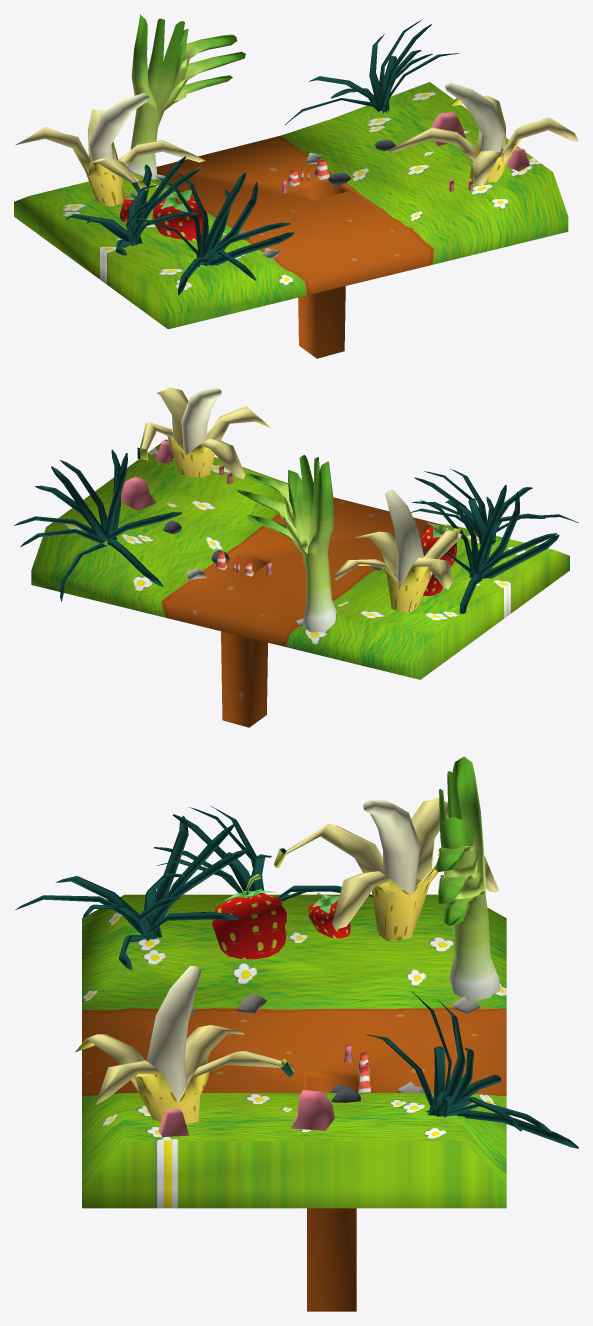
File: D_block_17.FBX
3 views of the same model, one above another, from view 1: azimuth 30°, elevation 25°; view 2: azimuth 150°, elevation 25°; view 3: azimuth 270°, elevation 25° (orthographic). The views are drawn at different scales.
Parts seen in each view (by area): view 1: Sol_trou_06; view 2: Sol_trou_06; view 3: Sol_trou_06.
Boxes of the visible parts, x1=… form: Sol_trou_06: x1=14, y1=14, x2=578, y2=358; Sol_trou_06: x1=14, y1=387, x2=578, y2=727; Sol_trou_06: x1=15, y1=756, x2=578, y2=1311.
Size of the model in its own units: 1023 by 713 by 798.
